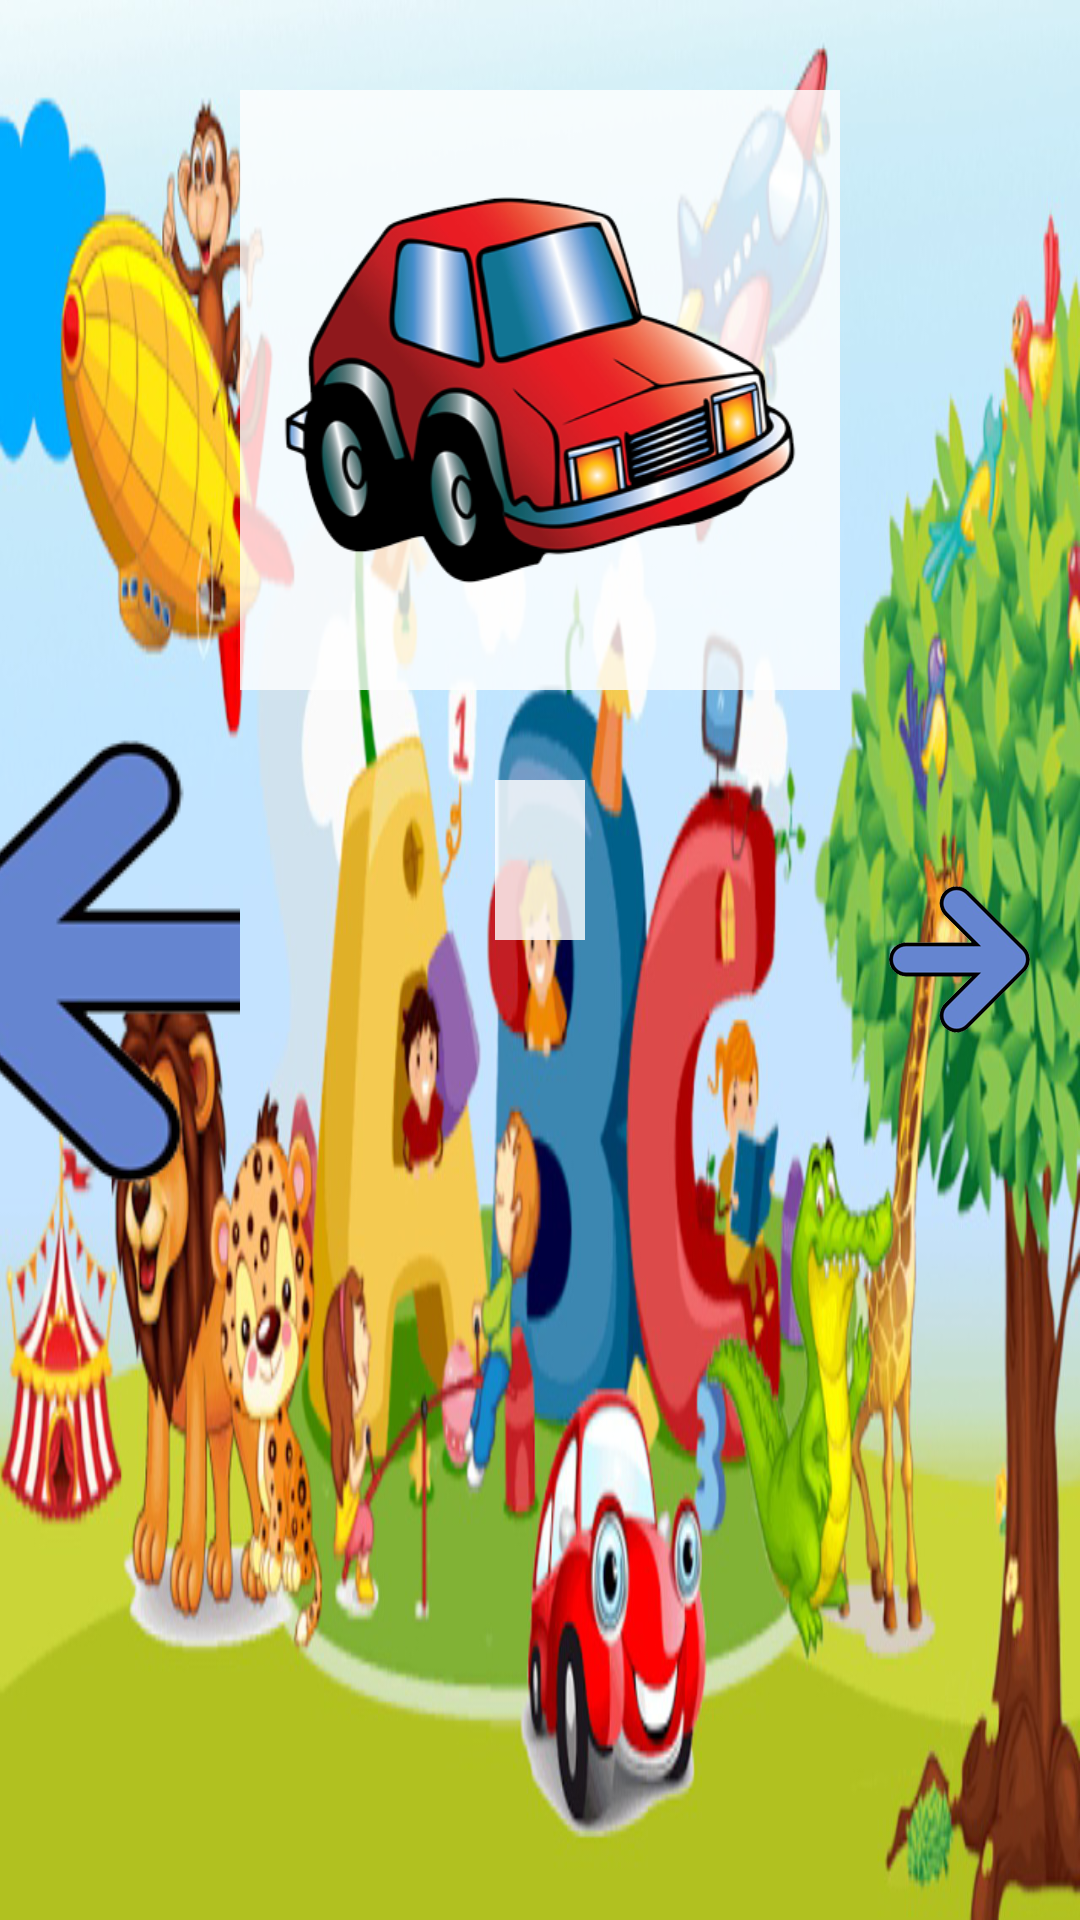

Named icons in this screenshot (1080x1920) and their centers, (x=x, y=y):
right arrow: (x=960, y=960)
